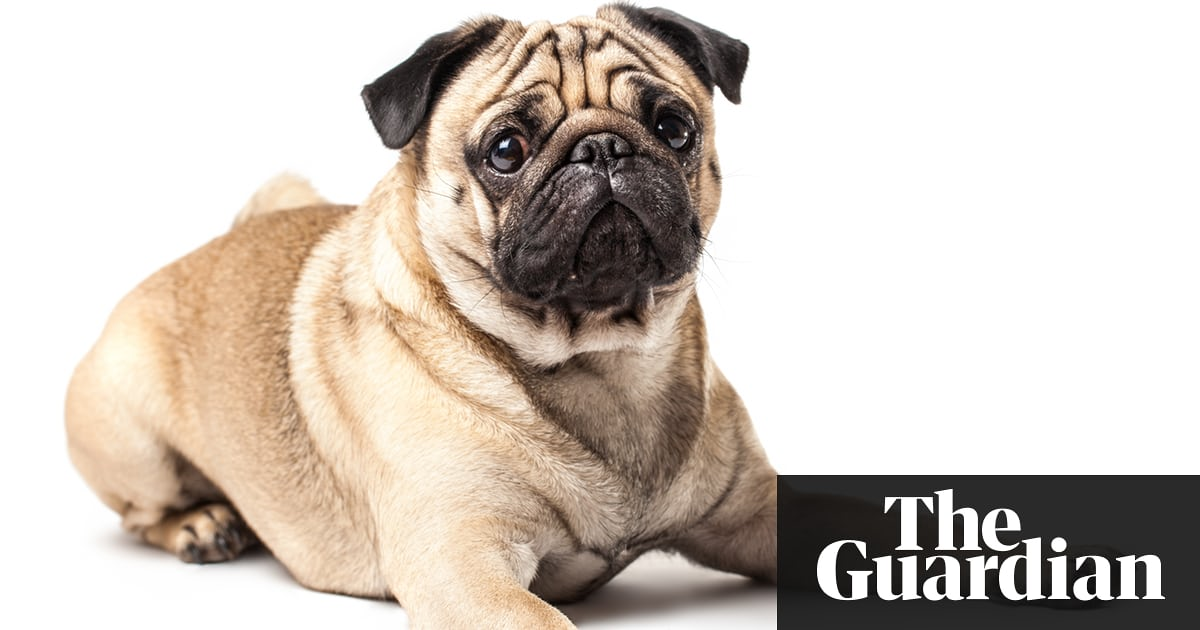dog: (65, 7, 839, 630)
